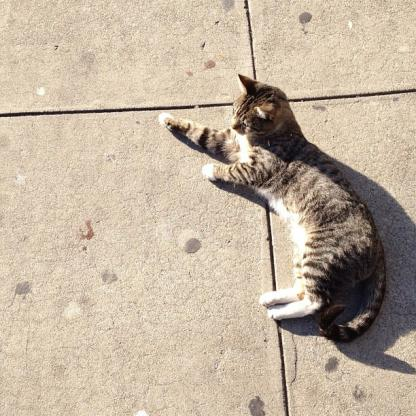Target: (157, 74, 388, 347)
